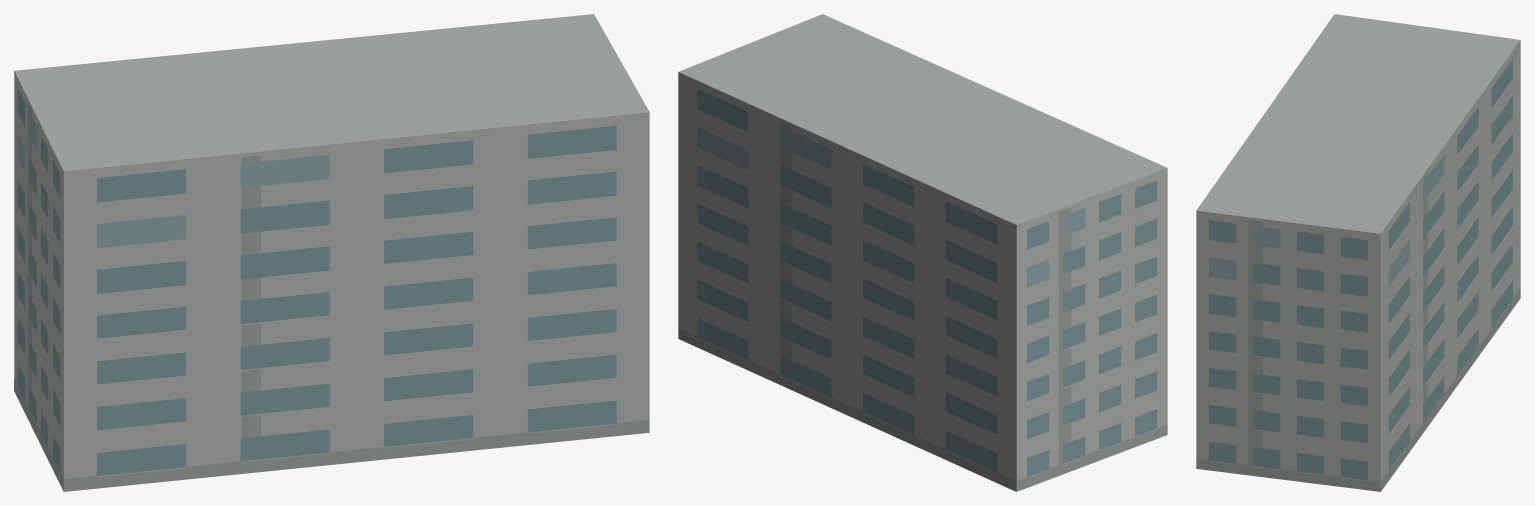
The model's file is survey-upis-32856510.glb.
3 views of the same model, side by side, from view 1: azimuth 30°, elevation 25°; view 2: azimuth 150°, elevation 25°; view 3: azimuth 270°, elevation 25° (orthographic). The views are drawn at different scales.
Parts seen in each view (by area): view 1: survey-upis-32856510.tmp; view 2: survey-upis-32856510.tmp; view 3: survey-upis-32856510.tmp.
Boxes of the visible parts, bbox=[...] form: survey-upis-32856510.tmp: bbox=[14, 14, 649, 491]; survey-upis-32856510.tmp: bbox=[678, 14, 1167, 491]; survey-upis-32856510.tmp: bbox=[1196, 14, 1520, 491].
Bounding box in the file's own units: 38.43 × 21.05 × 23.99.
